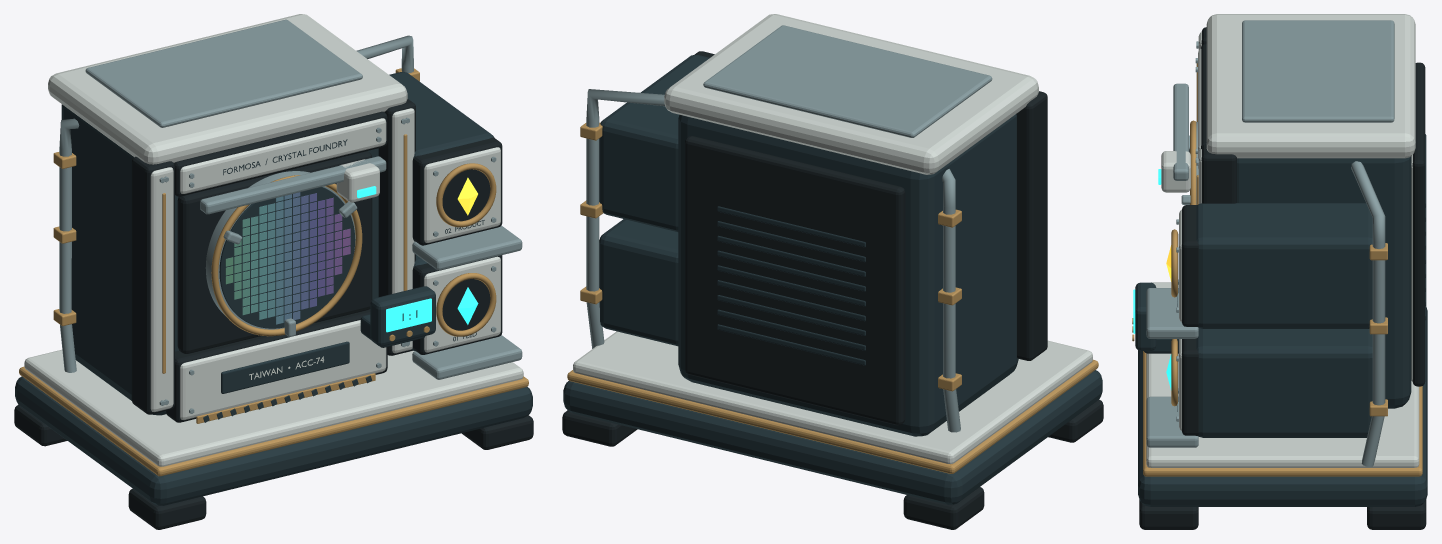
File: SM_PAE_WaferConverter.fbx
The picture shows the model from 3 angles, left to right: view 1: azimuth 30°, elevation 25°; view 2: azimuth 150°, elevation 25°; view 3: azimuth 270°, elevation 25°; orthographic projection. The views are drawn at different scales.
Parts seen in each view (by area): view 1: SM_PAE_WaferConverter; view 2: SM_PAE_WaferConverter; view 3: SM_PAE_WaferConverter.
Boxes of the visible parts, left/top/right/bottom form: SM_PAE_WaferConverter: left=14, top=14, right=533, bottom=529; SM_PAE_WaferConverter: left=562, top=14, right=1103, bottom=529; SM_PAE_WaferConverter: left=1132, top=14, right=1427, bottom=529.
Size of the model in its own units: 3.1 by 2.09 by 2.78.
